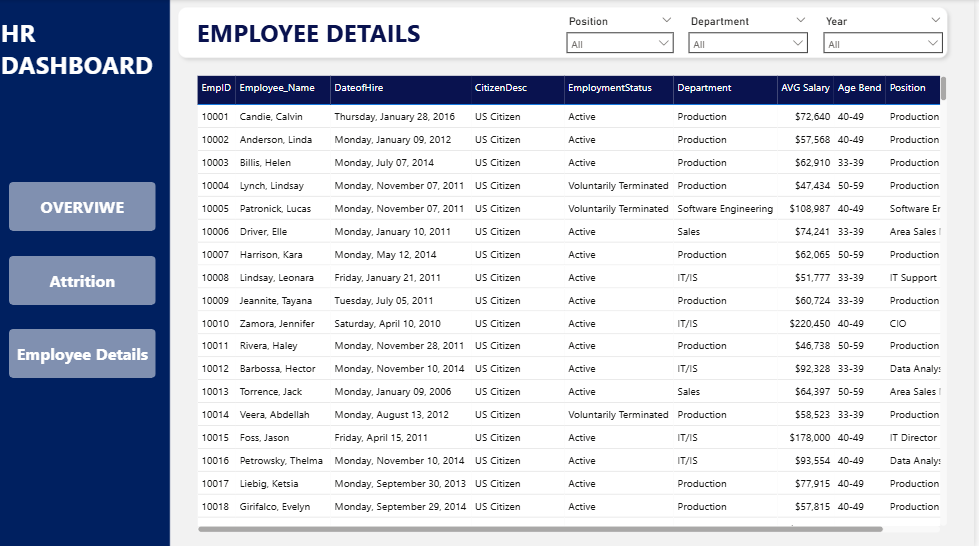

The dashboard page shown, as its layout file describes it:
{"tool":"powerbi","page":{"name":"Employee Details","canvas":[1280,720],"ordinal":2},"visuals":[{"type":"slicer","fields":{"Values":["Date Table.Year"]},"box":[1072,16,176,64],"z":0},{"type":"textbox","box":[256,16,384,64],"z":1000},{"type":"tableEx","fields":{"Values":["HRDataset_v14.EmpID","HRDataset_v14.Employee_Name","HRDataset_v14.DateofHire","HRDataset_v14.CitizenDesc","HRDataset_v14.EmploymentStatus","HRDataset_v14.Department","_measure.AVG Salary","HRDataset_v14.Age Bend","HRDataset_v14.Position"]},"box":[256,96,992,608],"z":2000},{"type":"slicer","fields":{"Values":["HRDataset_v14.Department"]},"box":[896,16,176,64],"z":3000},{"type":"slicer","fields":{"Values":["HRDataset_v14.Position"]},"box":[736,16,160,64],"z":4000},{"type":"textbox","box":[0,16,224,112],"z":6000},{"type":"actionButton","box":[16,240,192,64],"z":6001},{"type":"actionButton","box":[16,336,192,64],"z":6002},{"type":"actionButton","box":[16,432,192,64],"z":6003}]}

Visuals, with their boxes on the page's 1280x720 design canvas (x1, y1, x2, y2). These are canvas units, not pixel positions in the 979x546 screenshot, which may show the page scaled, cropped or inside an application window:
slicer - Date Table.Year: box(1072, 16, 1248, 80)
textbox: box(256, 16, 640, 80)
tableEx - HRDataset_v14.EmpID x HRDataset_v14.Employee_Name: box(256, 96, 1248, 704)
slicer - HRDataset_v14.Department: box(896, 16, 1072, 80)
slicer - HRDataset_v14.Position: box(736, 16, 896, 80)
textbox: box(0, 16, 224, 128)
actionButton: box(16, 240, 208, 304)
actionButton: box(16, 336, 208, 400)
actionButton: box(16, 432, 208, 496)
